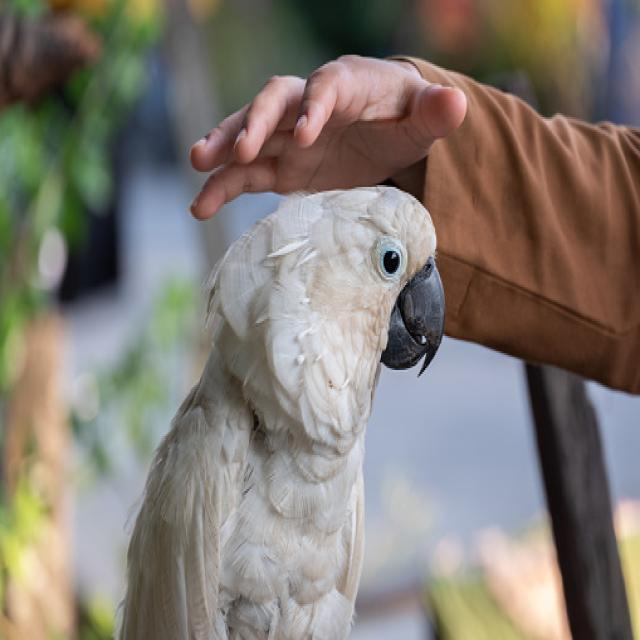Kakatua Putih: (122, 170, 453, 640)
